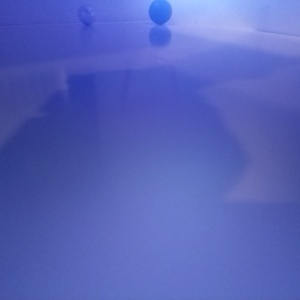alive_ball: (1, 89, 73, 292)
dead_ball: (1, 48, 57, 117)
